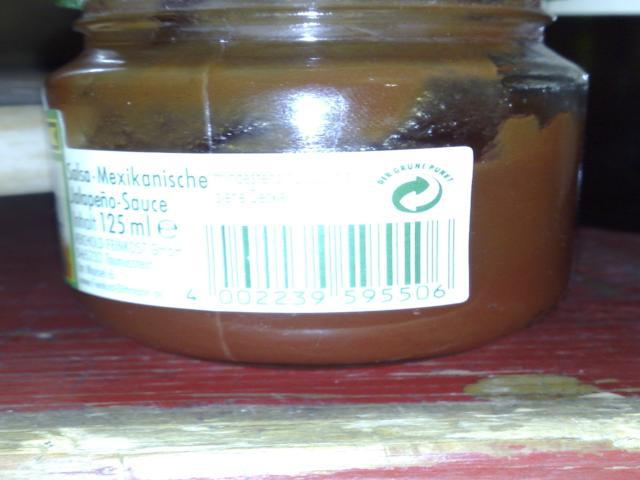Barkod: (204, 214, 457, 290)
